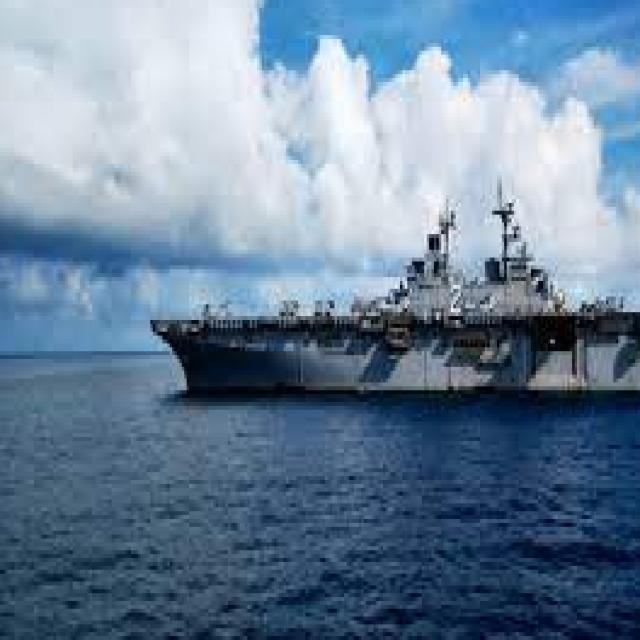navalvessels: (131, 183, 640, 398)
